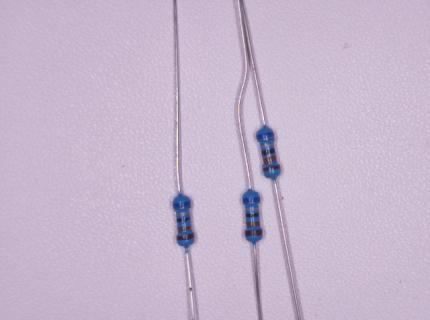Black band: (262, 148, 275, 156), (246, 213, 259, 218), (177, 218, 190, 223)
Blue band: (258, 132, 274, 139), (173, 201, 190, 207), (243, 198, 260, 202)
Brown band: (177, 233, 193, 241), (245, 230, 262, 237), (264, 166, 280, 171)
Grey band: (262, 143, 274, 148), (177, 212, 188, 217), (246, 208, 258, 212)
Orange band: (264, 156, 276, 163), (179, 226, 190, 233), (246, 222, 260, 227)
